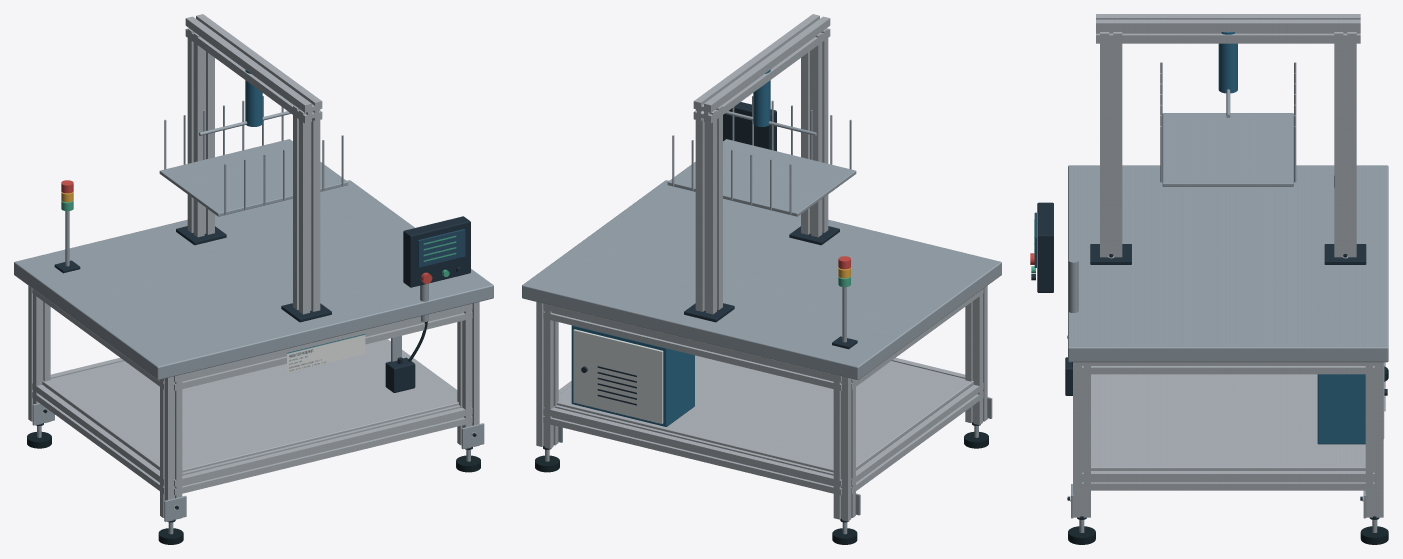
File: print-wash-cell.glb
3 renders of one model, left to right at view 1: azimuth 30°, elevation 25°; view 2: azimuth 150°, elevation 25°; view 3: azimuth 270°, elevation 25°, orthographic. The views are drawn at different scales.
Visible parts, largest first — view 1: ClosedMachineBed_40, LowerShelf_41, BasketBottom_82, SlottedExtrusion_34, SlottedExtrusion_76, SlottedExtrusion_81, SlottedExtrusion_71, SlottedExtrusion_35, SlottedExtrusion_11, SlottedExtrusion_36, ConsoleBack_52, SlottedExtrusion_27 (+6 smaller); view 2: ClosedMachineBed_40, LowerShelf_41, BasketBottom_82, BackDoor_43, SlottedExtrusion_32, SlottedExtrusion_71, SlottedExtrusion_81, SlottedExtrusion_33, SlottedExtrusion_76, SlottedExtrusion_3, SlottedExtrusion_19, Cabinet_42 (+5 smaller); view 3: ClosedMachineBed_40, LowerShelf_41, BasketBottom_82, SlottedExtrusion_81, SlottedExtrusion_38, SlottedExtrusion_71, SlottedExtrusion_76, SlottedExtrusion_39, Cabinet_42, SlottedExtrusion_19, SlottedExtrusion_27, ConsoleBack_52 (+6 smaller).
Boxes of the visible parts, x1,y1,x2,y2 form: ClosedMachineBed_40: (14,180,493,380); LowerShelf_41: (42,340,458,472); BasketBottom_82: (159,139,348,216); SlottedExtrusion_34: (174,405,472,495); SlottedExtrusion_76: (293,105,320,314); SlottedExtrusion_81: (185,14,322,123); SlottedExtrusion_71: (187,28,214,237); SlottedExtrusion_35: (174,303,472,390); SlottedExtrusion_11: (160,374,182,521); SlottedExtrusion_36: (32,383,164,493); ConsoleBack_52: (403,216,470,287); SlottedExtrusion_27: (457,302,479,448); ClosedMachineBed_40: (522,180,1001,380); LowerShelf_41: (557,355,973,472); BasketBottom_82: (667,139,856,216); BackDoor_43: (573,329,663,423); SlottedExtrusion_32: (543,405,841,495); SlottedExtrusion_71: (695,105,722,314); SlottedExtrusion_81: (693,14,830,123); SlottedExtrusion_33: (543,303,841,390); SlottedExtrusion_76: (801,28,828,237); SlottedExtrusion_3: (833,374,855,521); SlottedExtrusion_19: (536,302,558,448); Cabinet_42: (571,325,694,426); ClosedMachineBed_40: (1068,165,1388,362); LowerShelf_41: (1091,374,1365,470); BasketBottom_82: (1162,113,1293,186); SlottedExtrusion_81: (1096,14,1360,43); SlottedExtrusion_38: (1082,471,1374,490); SlottedExtrusion_71: (1334,32,1356,257); SlottedExtrusion_76: (1100,32,1122,257); SlottedExtrusion_39: (1082,362,1374,374); Cabinet_42: (1317,374,1365,444); SlottedExtrusion_19: (1365,362,1383,517); SlottedExtrusion_27: (1073,362,1090,517); ConsoleBack_52: (1037,202,1053,292).
Size of the model in its own units: 1.55 by 1.74 by 1.29.
Materials: 11 (3 with a texture image).
